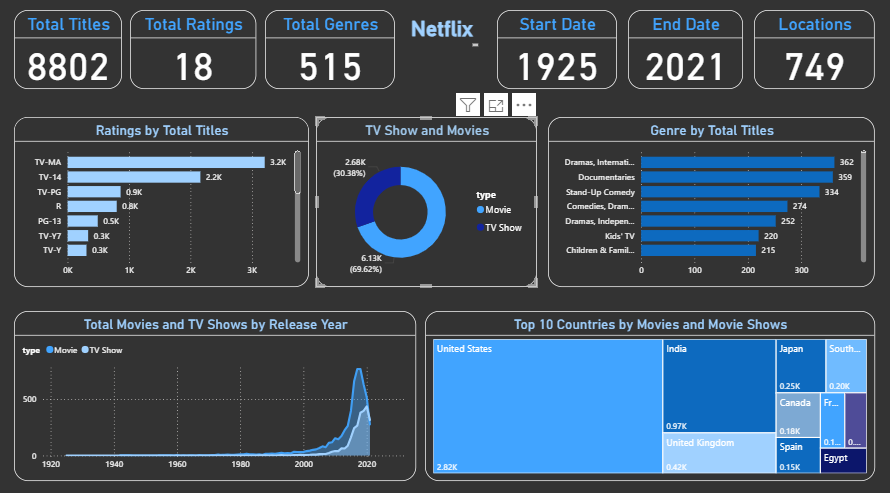

The dashboard page shown, as its layout file describes it:
{"tool":"powerbi","page":{"name":"Page 1","canvas":[1280,720],"ordinal":0},"visuals":[{"type":"donutChart","title":"TV Show and Movies","fields":{"Y":["Count(netflix_titles.show_id)"],"Category":["netflix_titles.type"]},"box":[462,177.2,313.2,240.9],"z":0},{"type":"barChart","title":"Ratings by Total Titles","fields":{"Category":["netflix_titles.rating"],"Y":["Count(netflix_titles.show_id)"]},"box":[34,177.2,418.1,240.9],"z":1000},{"type":"barChart","title":"Genre by Total Titles","fields":{"Category":["netflix_titles.listed_in"],"Y":["Count(netflix_titles.show_id)"]},"box":[790.9,177.2,463.5,240.9],"z":2000},{"type":"areaChart","title":"Total Movies and TV Shows by Release Year","fields":{"Category":["netflix_titles.release_year"],"Y":["Count(netflix_titles.show_id)"],"Series":["netflix_titles.type"]},"box":[34,452.1,569.8,240.9],"z":3000},{"type":"treemap","title":"Top 10 Countries by Movies and Movie Shows","fields":{"Group":["netflix_titles.country"],"Values":["Count(netflix_titles.show_id)"]},"box":[616.5,452.1,637.8,240.9],"z":4000},{"type":"card","title":"Total Titles","fields":{"Values":["Count(netflix_titles.title)"]},"box":[34,25.5,153.1,112],"z":5000},{"type":"card","title":"Total Ratings","fields":{"Values":["Count(netflix_titles.rating)"]},"box":[198.4,25.5,178.6,112],"z":6000},{"type":"card","title":"Total Genres","fields":{"Values":["Count(netflix_titles.listed_in)"]},"box":[389.8,25.5,184.3,112],"z":7000},{"type":"card","title":"Start Date","fields":{"Values":["Min(netflix_titles.release_year)"]},"box":[718.6,25.5,170.1,112],"z":8000},{"type":"card","title":"End Date","fields":{"Values":["Max(netflix_titles.release_year)"]},"box":[904.3,25.5,163,112],"z":9000},{"type":"card","title":"Locations","fields":{"Values":["Count(netflix_titles.country)"]},"box":[1082.8,25.5,171.5,112],"z":10000},{"type":"textbox","title":"Netflix","box":[583.9,34,113.4,48.2],"z":11000}]}

Visuals, with their boxes in screenshot pixels (x1, y1, x2, y2), scaled from the page's 1280x720 canvas onto the 890x493 screenshot:
"TV Show and Movies" donutChart: detection(321, 121, 539, 286)
"Ratings by Total Titles" barChart: detection(24, 121, 314, 286)
"Genre by Total Titles" barChart: detection(550, 121, 872, 286)
"Total Movies and TV Shows by Release Year" areaChart: detection(24, 310, 420, 475)
"Top 10 Countries by Movies and Movie Shows" treemap: detection(429, 310, 872, 475)
"Total Titles" card: detection(24, 17, 130, 94)
"Total Ratings" card: detection(138, 17, 262, 94)
"Total Genres" card: detection(271, 17, 399, 94)
"Start Date" card: detection(500, 17, 618, 94)
"End Date" card: detection(629, 17, 742, 94)
"Locations" card: detection(753, 17, 872, 94)
"Netflix" textbox: detection(406, 23, 485, 56)
